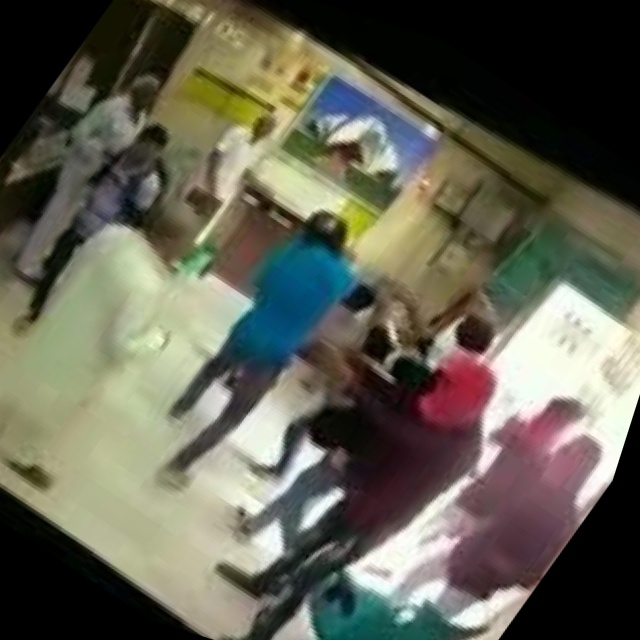gun: (290, 325, 376, 403)
